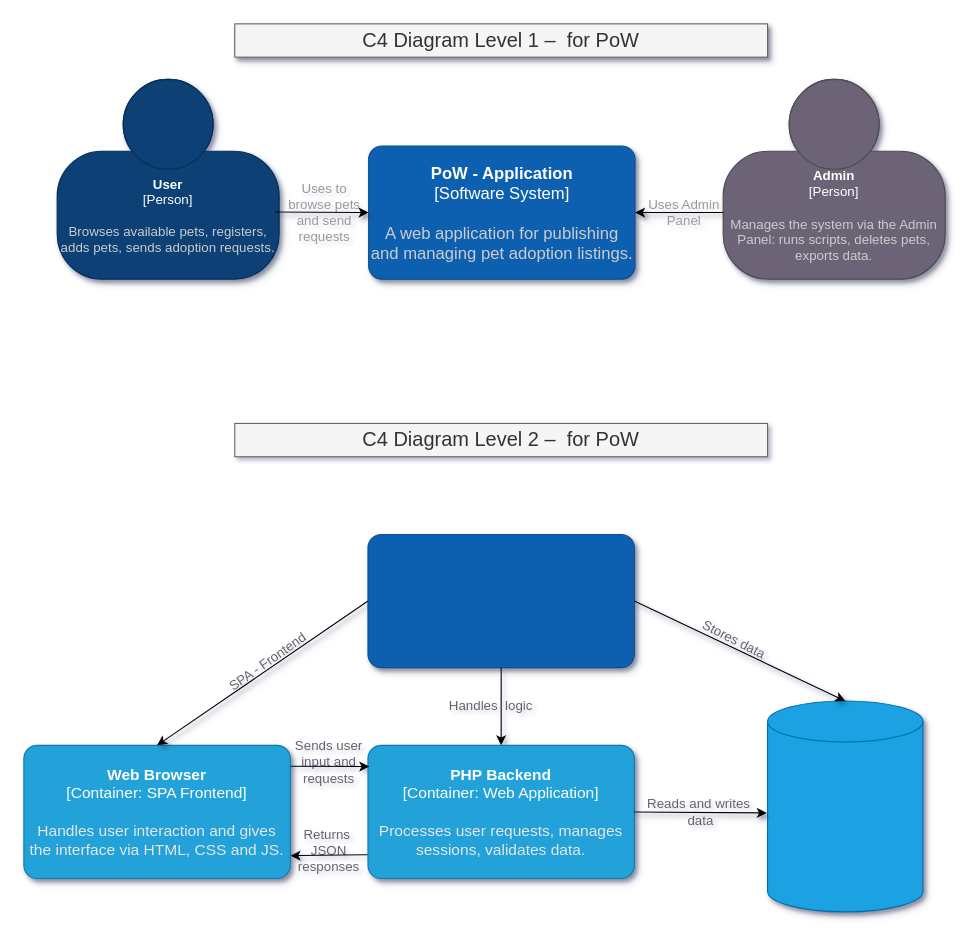
The diagram is 978 pixels wide and 946 high, and some of its shapes have lost their labels. Each missing label, with the centre of its shape:
"PoW – Application [Software System]" belongs at point (501, 602).
"SQLite Database [Container: Database] Stores data." belongs at point (846, 807).
